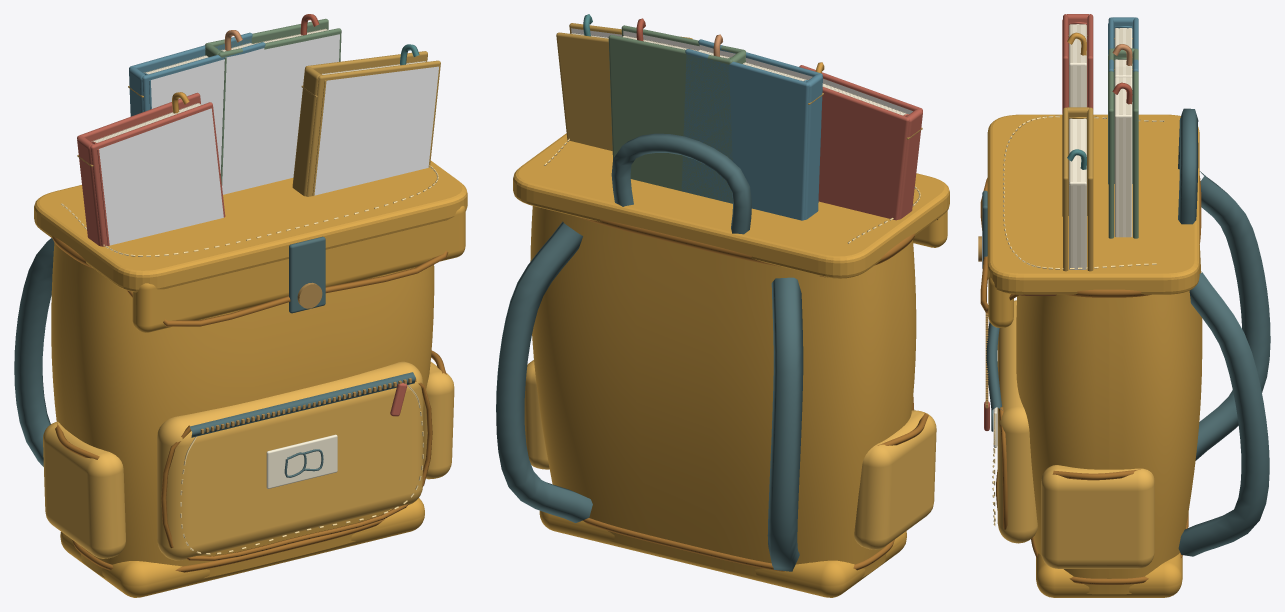
The model's file is schoolbag-v4.glb.
3 views of the same model, side by side, from view 1: azimuth 30°, elevation 25°; view 2: azimuth 150°, elevation 25°; view 3: azimuth 270°, elevation 25° (orthographic). The views are drawn at different scales.
Parts seen in each view (by area): view 1: FabricBody, FrontPocket, FlapOuter, CoverArt_chinese, CoverArt_science, FlapApron, CoverArt_english, SidePocket-1, RearStrap-1, CoverArt_math, SoftBase, SidePocket1 (+18 smaller); view 2: FabricBody, FlapOuter, BackCover_1, BackCover_2, RearStrap1, BackCover_0, RearStrap-1, SidePocket-1, BackCover_3, SoftBase, CarryHandle, Spine_1 (+7 smaller); view 3: FabricBody, FlapOuter, SidePocket1, RearStrap1, RearStrap-1, FrontPocket, Pages_2, SoftBase, Pages_3, CarryHandle, PageEdges_3, Pages_0 (+19 smaller).
Boxes of the visible parts, x1,y1,x2,y2 form: FabricBody: [51, 242, 434, 578]; FrontPocket: [157, 361, 423, 560]; FlapOuter: [34, 160, 467, 292]; CoverArt_chinese: [99, 108, 223, 245]; CoverArt_science: [314, 66, 438, 195]; FlapApron: [132, 206, 465, 332]; CoverArt_english: [222, 34, 339, 194]; SidePocket-1: [43, 421, 125, 558]; RearStrap-1: [14, 238, 54, 466]; CoverArt_math: [151, 48, 267, 193]; SoftBase: [60, 498, 424, 597]; SidePocket1: [423, 362, 454, 479]; FabricBody: [530, 206, 916, 577]; FlapOuter: [513, 133, 949, 278]; BackCover_1: [681, 49, 809, 220]; BackCover_2: [608, 35, 732, 203]; RearStrap1: [496, 221, 592, 522]; BackCover_0: [818, 87, 909, 220]; RearStrap-1: [767, 277, 803, 571]; SidePocket-1: [854, 410, 936, 549]; BackCover_3: [556, 32, 612, 150]; SoftBase: [539, 511, 906, 597]; CarryHandle: [611, 133, 751, 234]; Spine_1: [804, 74, 822, 219]; FabricBody: [1016, 245, 1202, 594]; FlapOuter: [987, 114, 1199, 294]; SidePocket1: [1041, 465, 1154, 568]; RearStrap1: [1178, 272, 1269, 556]; RearStrap-1: [1195, 171, 1270, 460]; FrontPocket: [997, 300, 1037, 543]; Pages_2: [1114, 59, 1132, 237]; SoftBase: [1036, 553, 1182, 597]; Pages_3: [1069, 118, 1086, 269]; CarryHandle: [1178, 108, 1198, 224]; PageEdges_3: [1069, 119, 1086, 269]; Pages_0: [1069, 24, 1086, 107].
Bounding box in the file's own units: 2.91 × 3.79 × 2.05.
